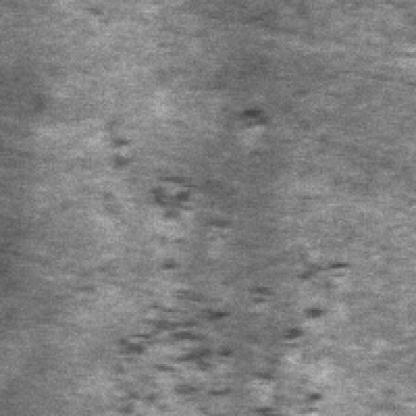rolled-in_scale: (98, 279, 324, 416), (93, 106, 272, 235)
